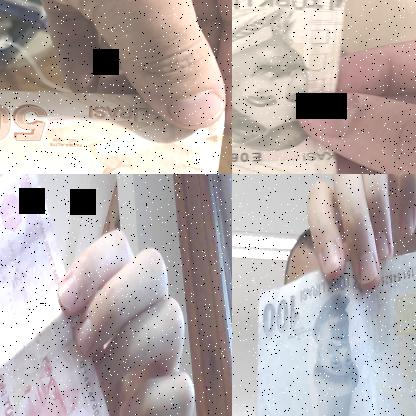5 TL: (0, 89, 227, 173)
